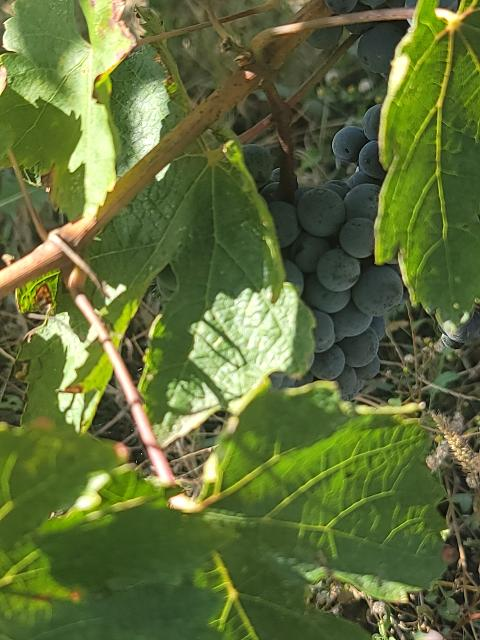grapes: (243, 105, 406, 400)
